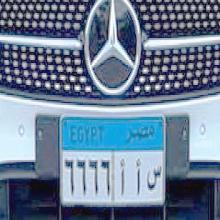6: (100, 159, 112, 197), (65, 154, 75, 198), (76, 157, 86, 197), (90, 159, 98, 198)
alif: (114, 157, 128, 200), (130, 156, 144, 198)
seen: (146, 158, 164, 196)
